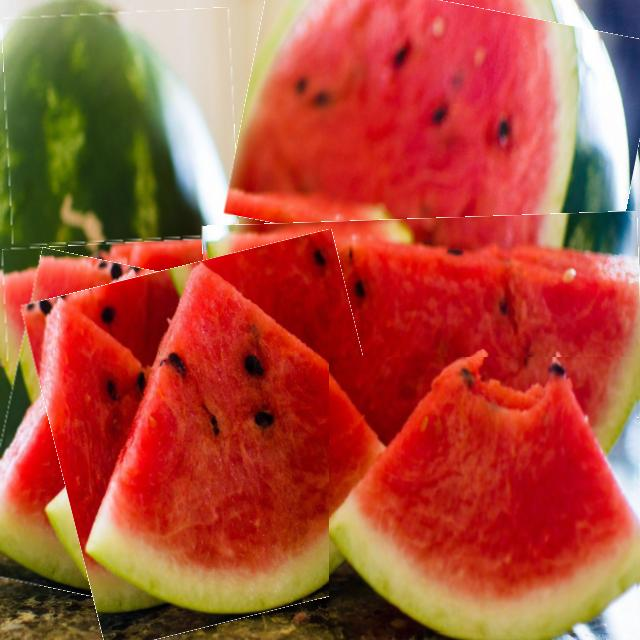watermelon: (40, 245, 398, 635), (234, 0, 640, 270), (203, 215, 640, 428), (330, 358, 638, 634), (0, 253, 182, 597), (4, 10, 237, 243), (4, 242, 211, 360)
